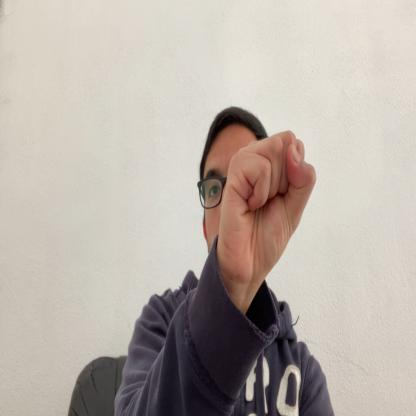S: (220, 126, 316, 283)
